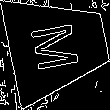M_E: (28, 18, 88, 74)
